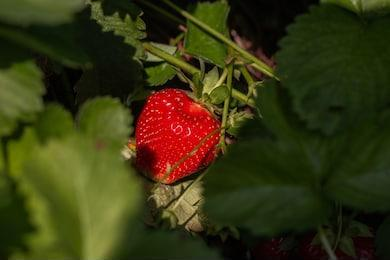Fresa: (125, 79, 229, 191)
